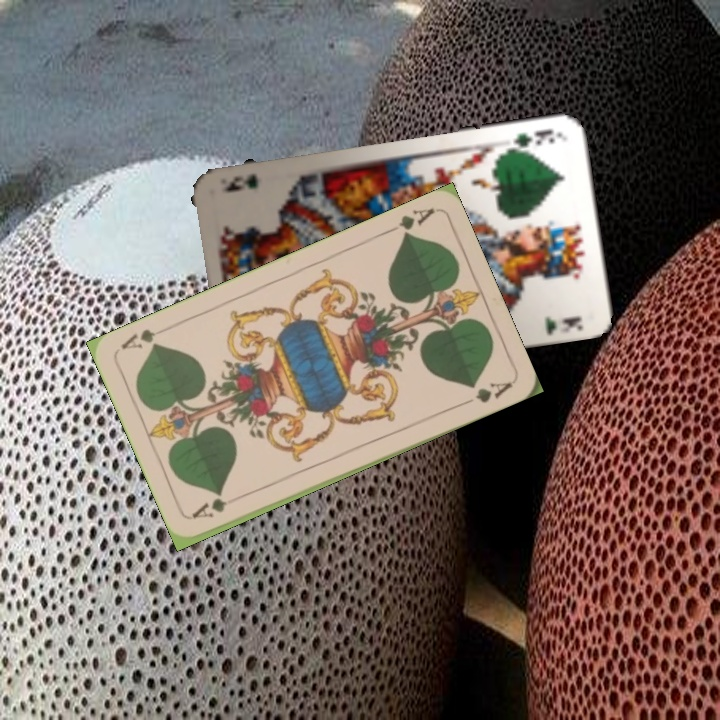GA: (381, 203, 437, 241), (188, 491, 245, 521)
GK: (502, 125, 560, 155)
